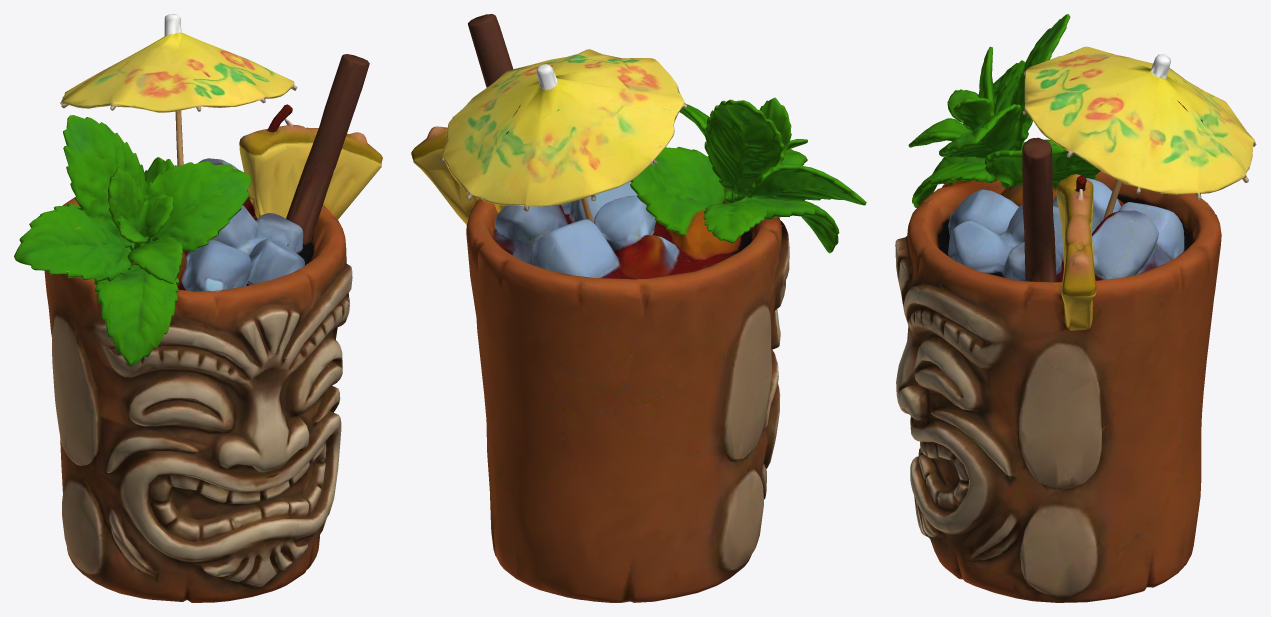
Rendered from a3D-cocktel.glb.
3 renders of one model, left to right at view 1: azimuth 30°, elevation 25°; view 2: azimuth 150°, elevation 25°; view 3: azimuth 270°, elevation 25°, orthographic. The views are drawn at different scales.
Visible parts, largest first — view 1: geometry_0; view 2: geometry_0; view 3: geometry_0.
Part boxes in pixels (x1,y1,x2,y2): geometry_0: (14,14,382,602); geometry_0: (411,14,866,602); geometry_0: (895,14,1256,602).
Size of the model in its own units: 1.59 by 1.9 by 1.22.
1 material, 1 textured.
